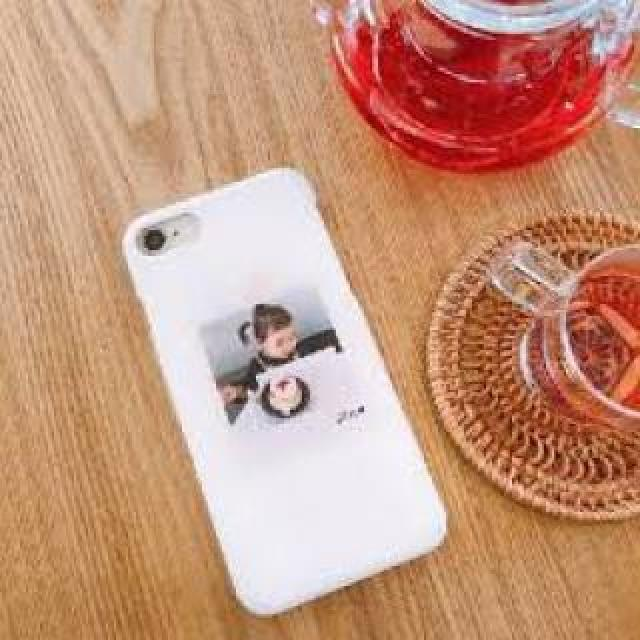smart phone: (97, 142, 458, 616)
